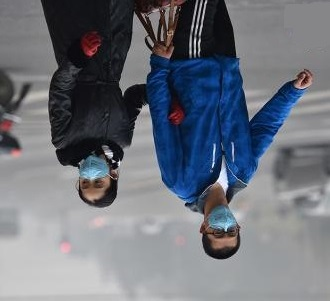person: (145, 7, 316, 260), (44, 1, 141, 208)
